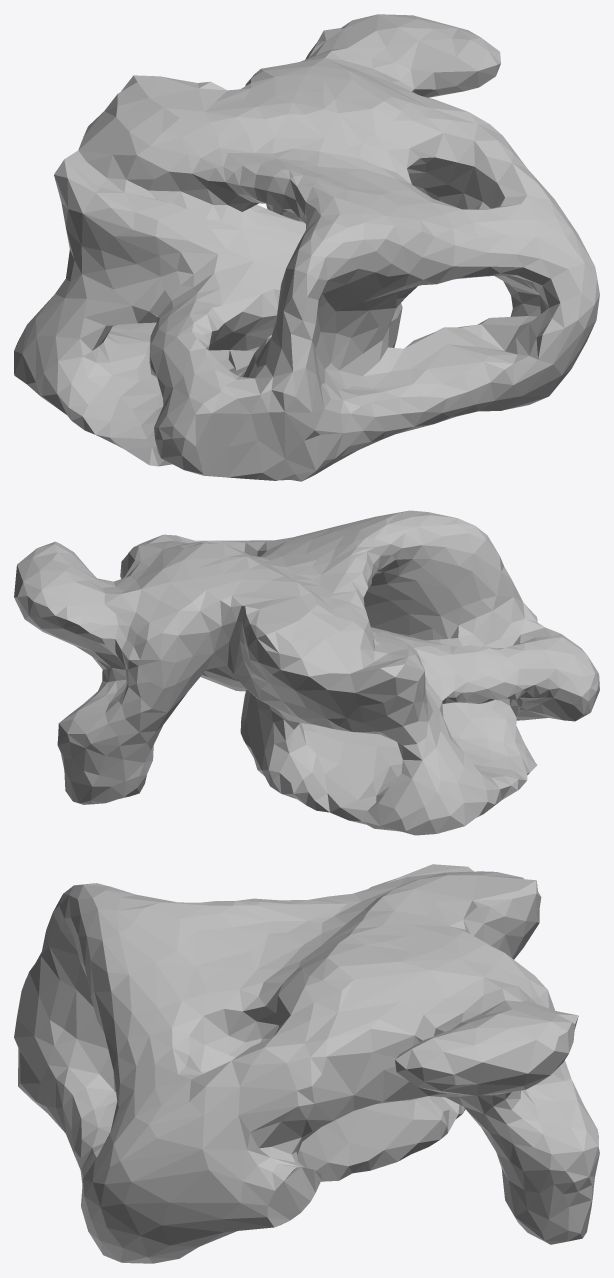
Rendered from Rock_049.glb.
3 views of the same model, one above another, from view 1: azimuth 30°, elevation 25°; view 2: azimuth 150°, elevation 25°; view 3: azimuth 270°, elevation 25° (orthographic). The views are drawn at different scales.
Parts seen in each view (by area): view 1: Rock_049; view 2: Rock_049; view 3: Rock_049.
Boxes of the visible parts, bbox=[...] form: Rock_049: bbox=[14, 14, 599, 481]; Rock_049: bbox=[14, 510, 599, 835]; Rock_049: bbox=[14, 864, 599, 1263].
Bounding box in the file's own units: 10.74 × 5.14 × 10.
Materials: 1 (1 with a texture image).
